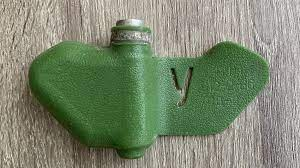butterfly: (23, 13, 272, 165)
